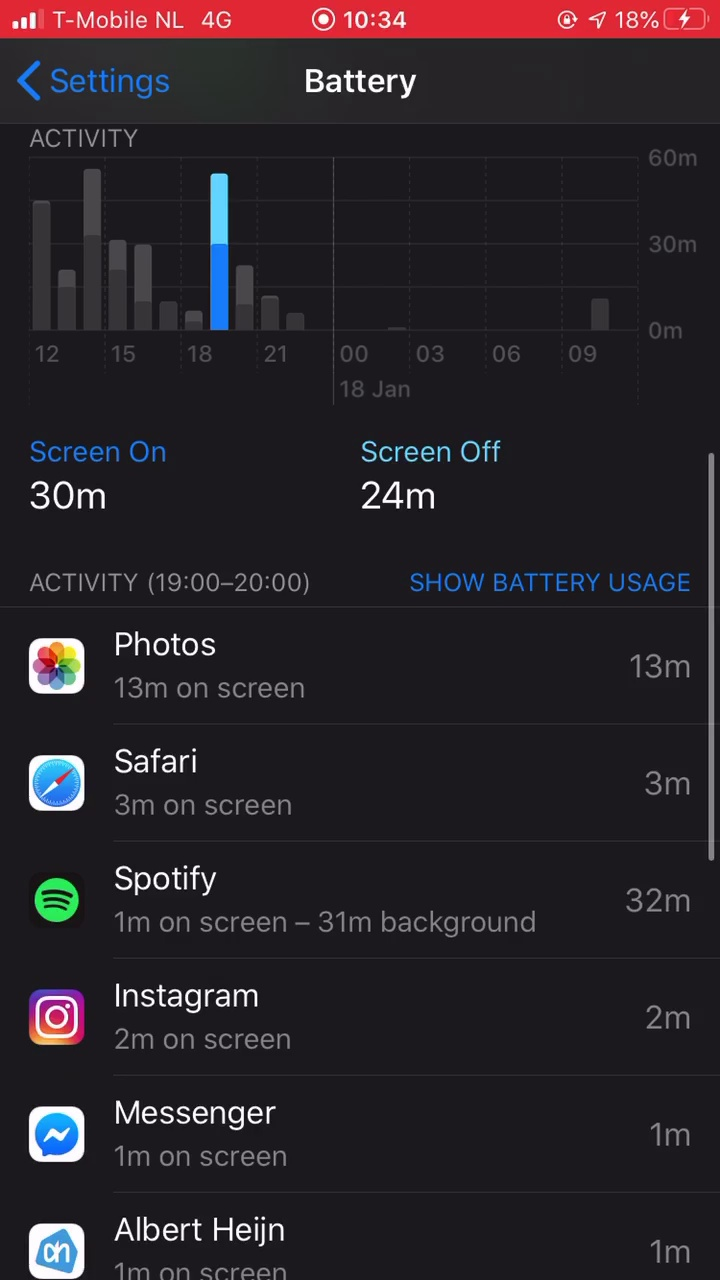activity: (15, 563, 322, 599)
app: (9, 620, 699, 714), (11, 738, 701, 832), (11, 855, 701, 949), (12, 967, 702, 1061), (10, 1086, 700, 1180)
